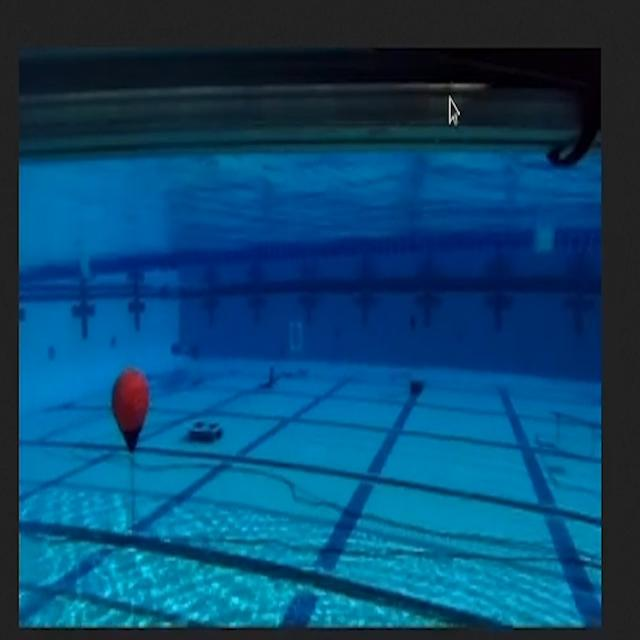Buoy: (100, 354, 165, 471)
